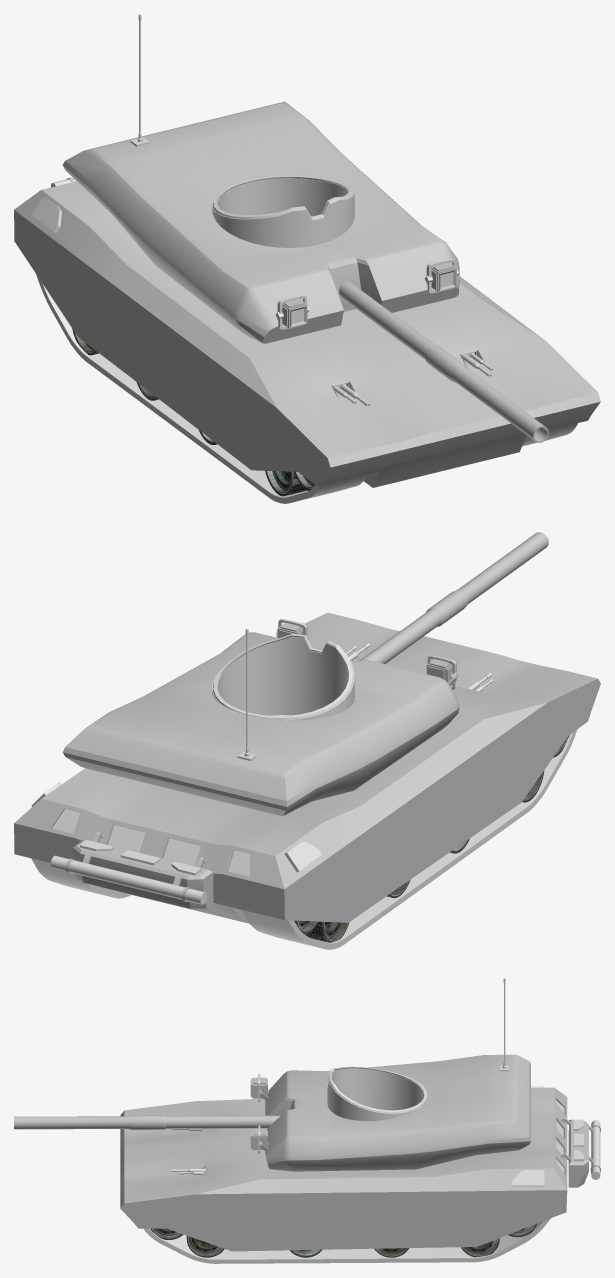
The model's file is Tank.fbx.
3 views of the same model, one above another, from view 1: azimuth 30°, elevation 25°; view 2: azimuth 150°, elevation 25°; view 3: azimuth 270°, elevation 25° (orthographic). The views are drawn at different scales.
Parts seen in each view (by area): view 1: TankBody, TurretBody, TurretBody.001, TankTreads, Cannon, Headlights, TankWheels2; view 2: TankBody, TurretBody, TurretBody.001, BackBox, TankTreads, Cannon, Headlights, TankWheels5; view 3: TankBody, TurretBody, TankTreads, TurretBody.001, Cannon, BackBox, Headlights, TankWheels2, TankWheels5.
Boxes of the visible parts, left/top/right/bottom form: TankBody: left=14, top=181, right=600, bottom=487; TurretBody: left=63, top=101, right=459, bottom=343; TurretBody.001: left=212, top=175, right=354, bottom=247; TankTreads: left=36, top=274, right=577, bottom=503; Cannon: left=339, top=281, right=548, bottom=442; Headlights: left=276, top=258, right=458, bottom=329; TankWheels2: left=265, top=470, right=306, bottom=496; TankBody: left=14, top=612, right=600, bottom=923; TurretBody: left=62, top=632, right=459, bottom=816; TurretBody.001: left=212, top=634, right=354, bottom=720; BackBox: left=51, top=832, right=213, bottom=908; TankTreads: left=31, top=729, right=577, bottom=949; Cannon: left=358, top=532, right=548, bottom=663; Headlights: left=275, top=619, right=458, bottom=689; TankWheels5: left=305, top=921, right=349, bottom=942; TankBody: left=120, top=1086, right=567, bottom=1251; TurretBody: left=265, top=1054, right=530, bottom=1171; TankTreads: left=144, top=1218, right=550, bottom=1263; TurretBody.001: left=327, top=1066, right=427, bottom=1120; Cannon: left=14, top=1115, right=280, bottom=1129; BackBox: left=561, top=1118, right=600, bottom=1187; Headlights: left=250, top=1074, right=268, bottom=1153; TankWheels2: left=186, top=1236, right=224, bottom=1257; TankWheels5: left=461, top=1238, right=499, bottom=1257.
Size of the model in its own units: 437 by 487 by 1164.
